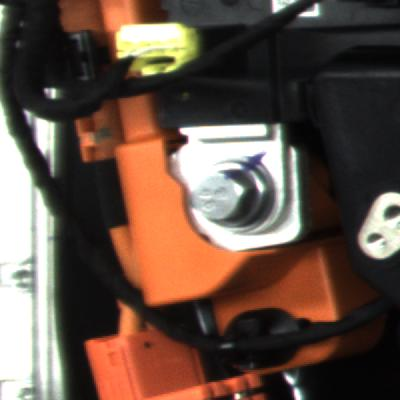nut_b: (183, 154, 287, 239)
